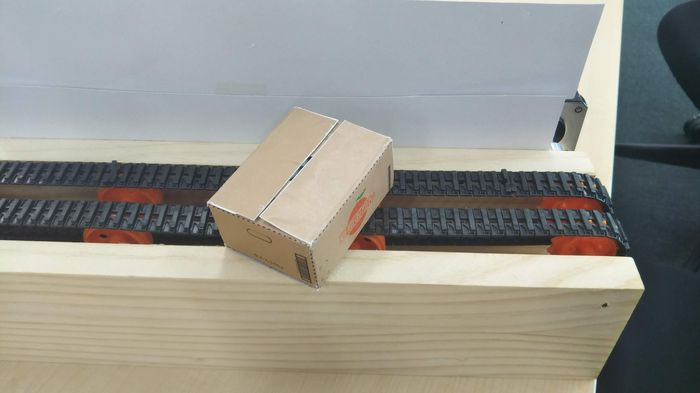box1: (203, 105, 395, 289)
